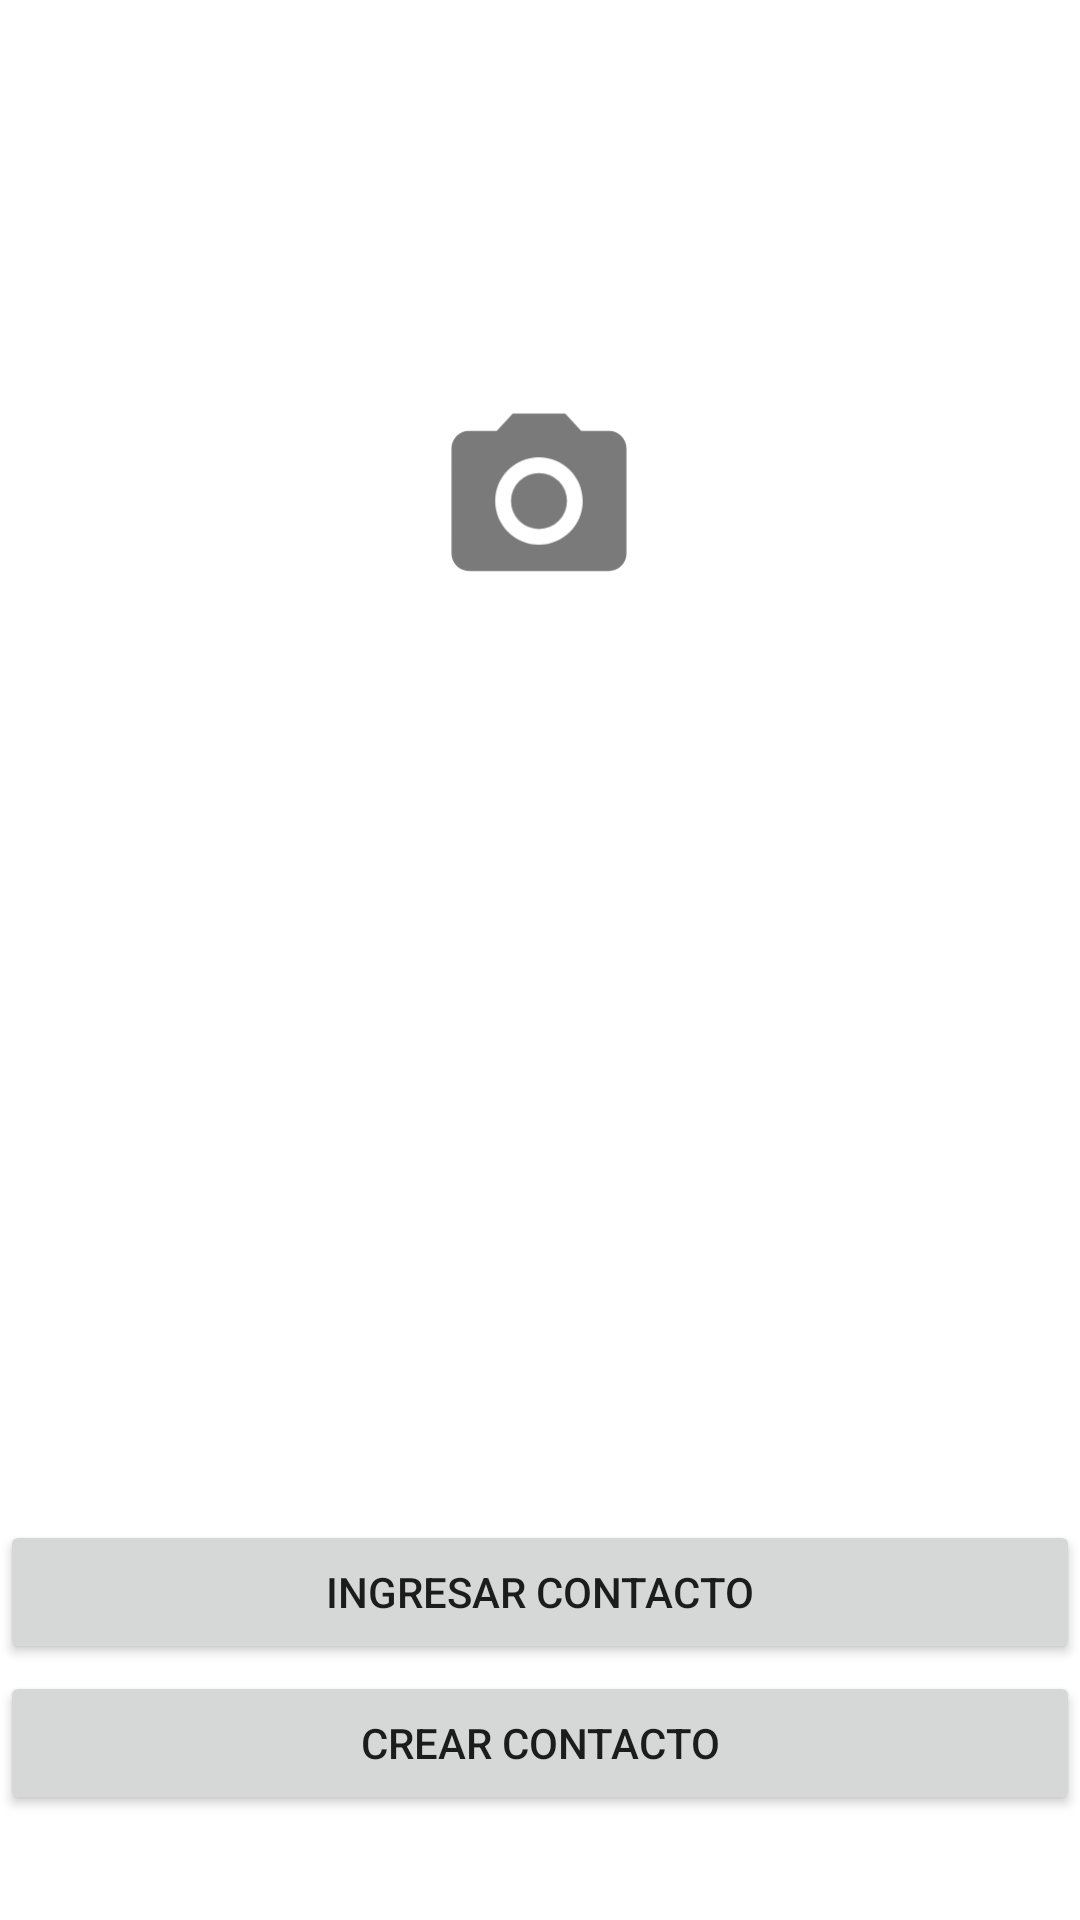

Locate icon controls on the screen. Image size 1080w x 1920h, boxes as (x1, y1, x2, y2).
camera: (451, 413, 627, 572)
